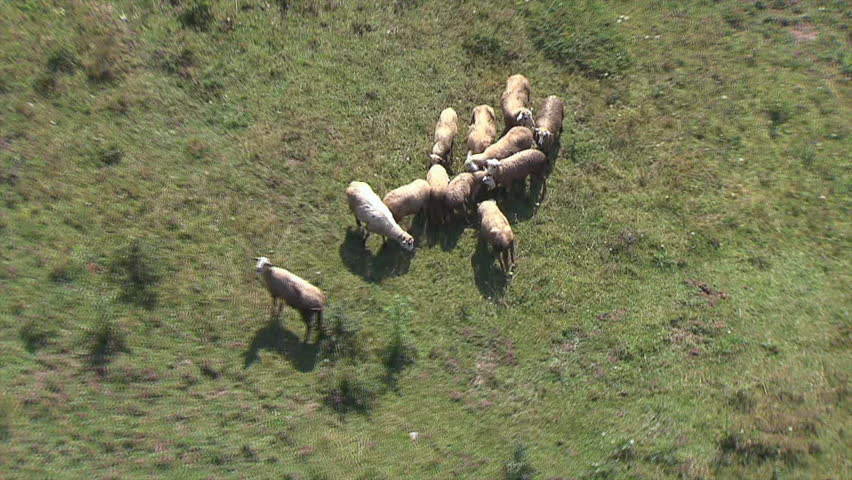sheep: (249, 251, 329, 348), (341, 176, 418, 263), (483, 146, 551, 212), (471, 198, 524, 280), (532, 90, 568, 162), (425, 104, 461, 171), (499, 71, 539, 130)
